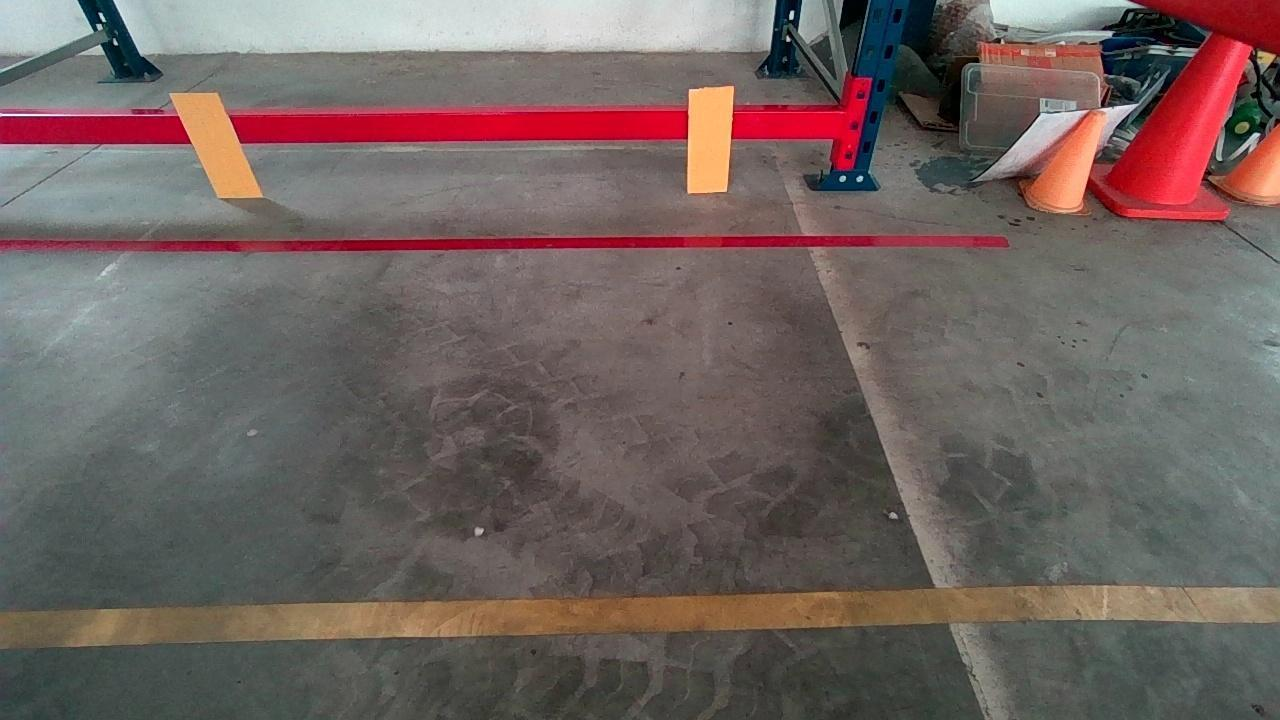h_rack: (3, 104, 855, 148)
orange_strip: (170, 92, 260, 196), (688, 86, 733, 192)
red_line: (8, 226, 997, 255)
yellow_line: (2, 578, 1271, 652)
